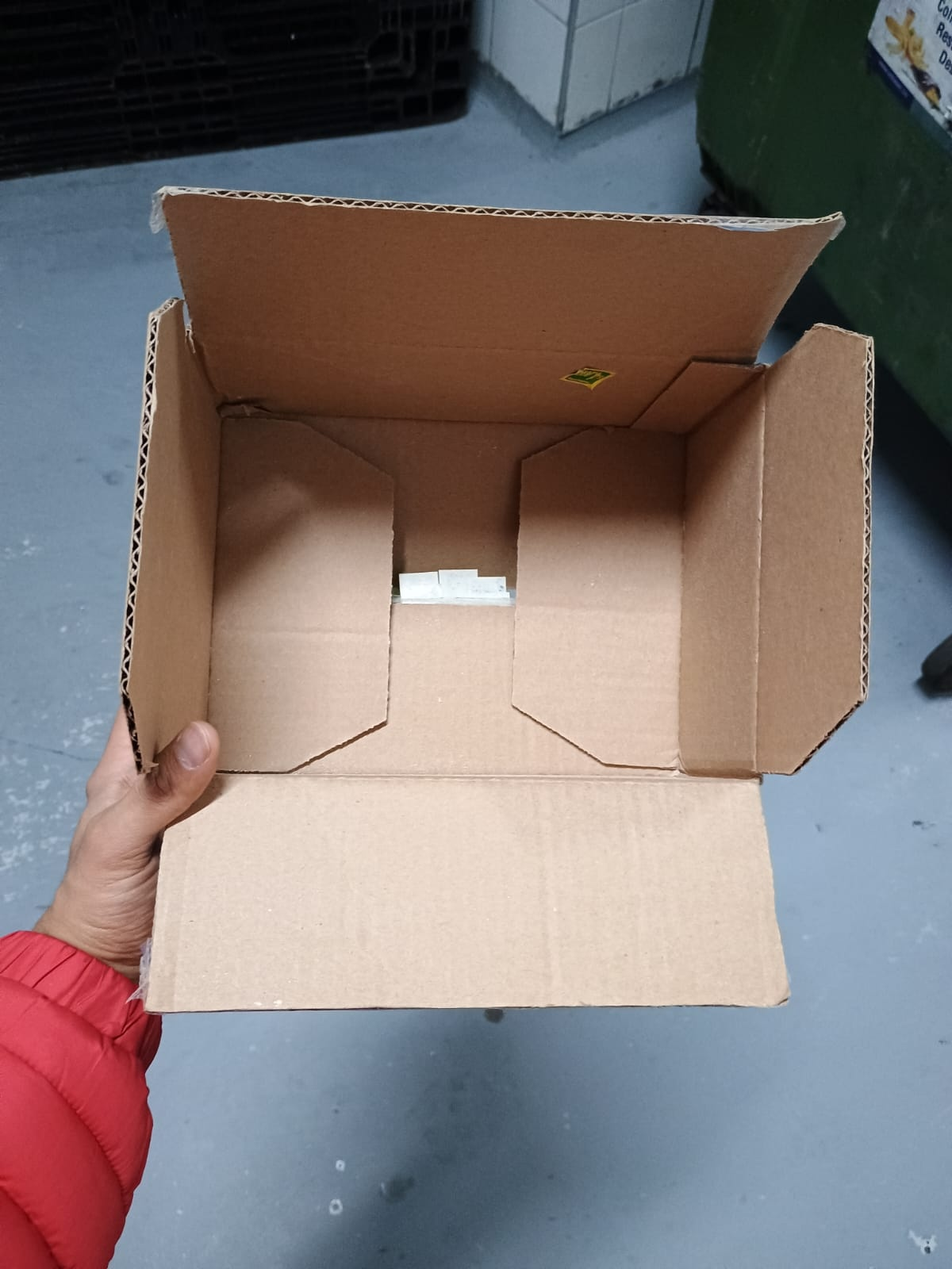Carton: (124, 186, 876, 1011)
